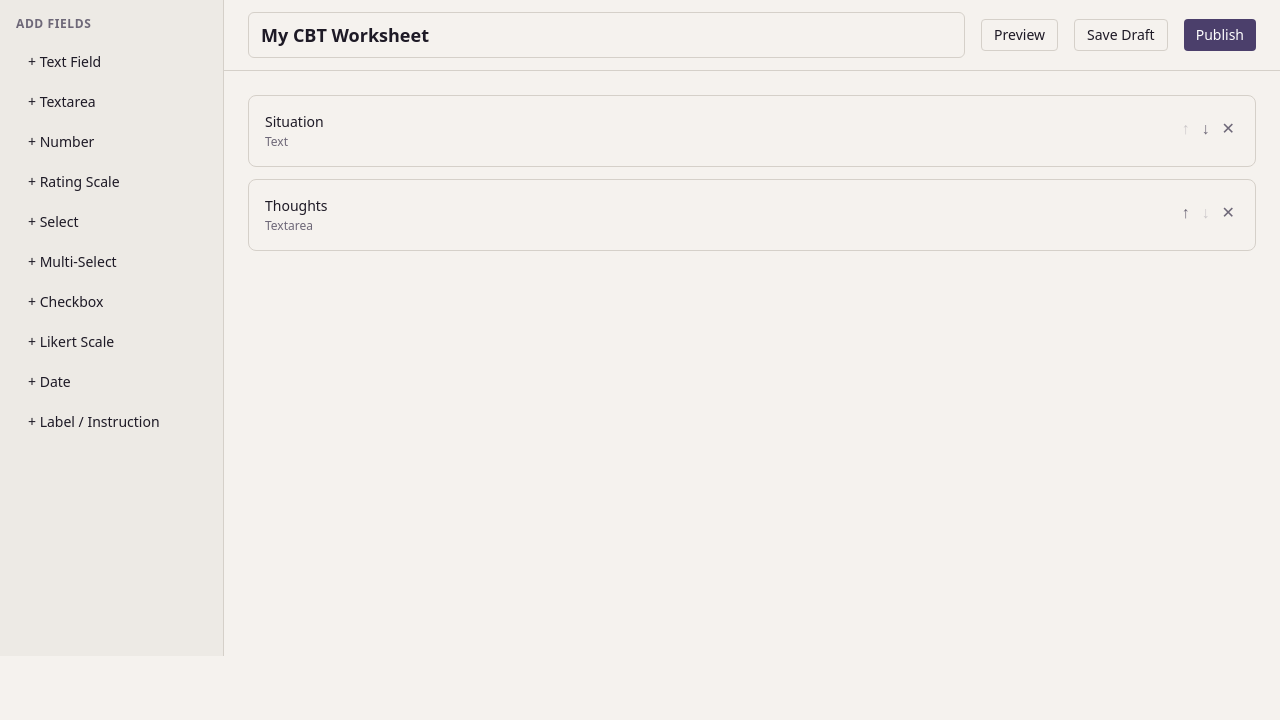
Test case: Worksheet builder page › delete button removes a field from the canvas
Expected: the heading "Situation" is shown, [265,112,324,131]
Click the button named "delete field".
click(1228, 129)  # box [1218,112,1239,146]
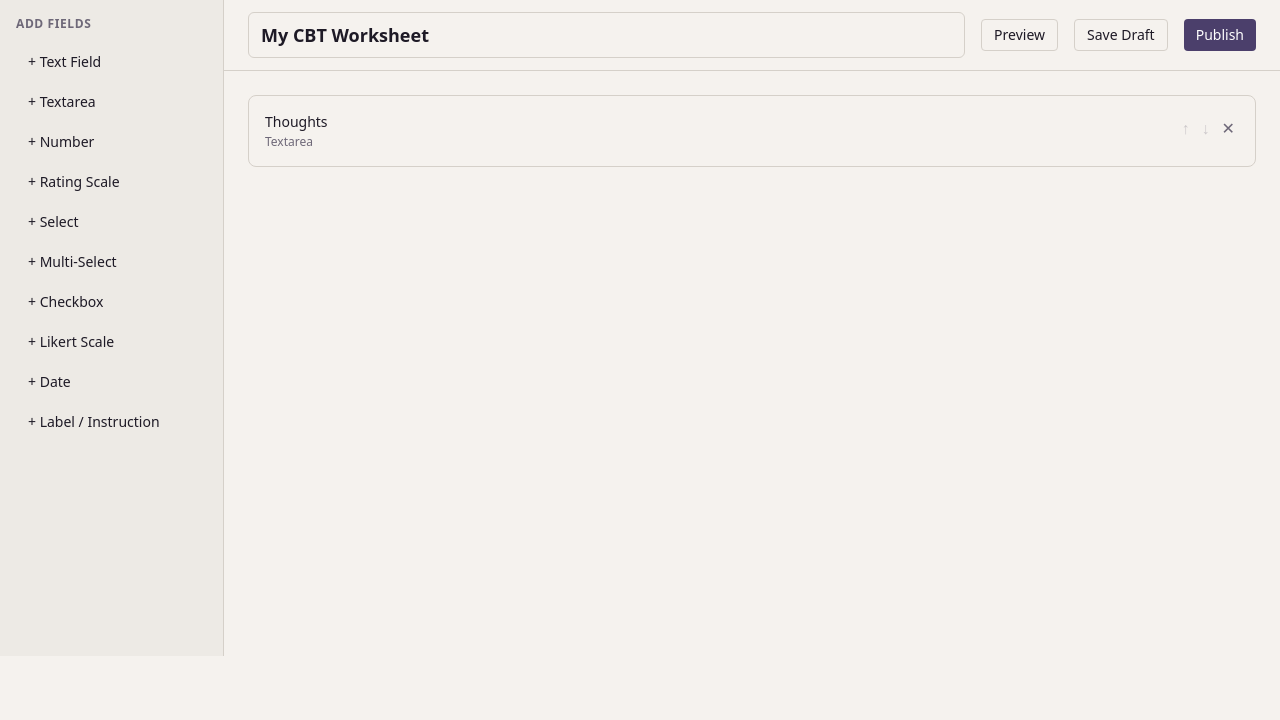
Expected: the heading "Situation" is gone
